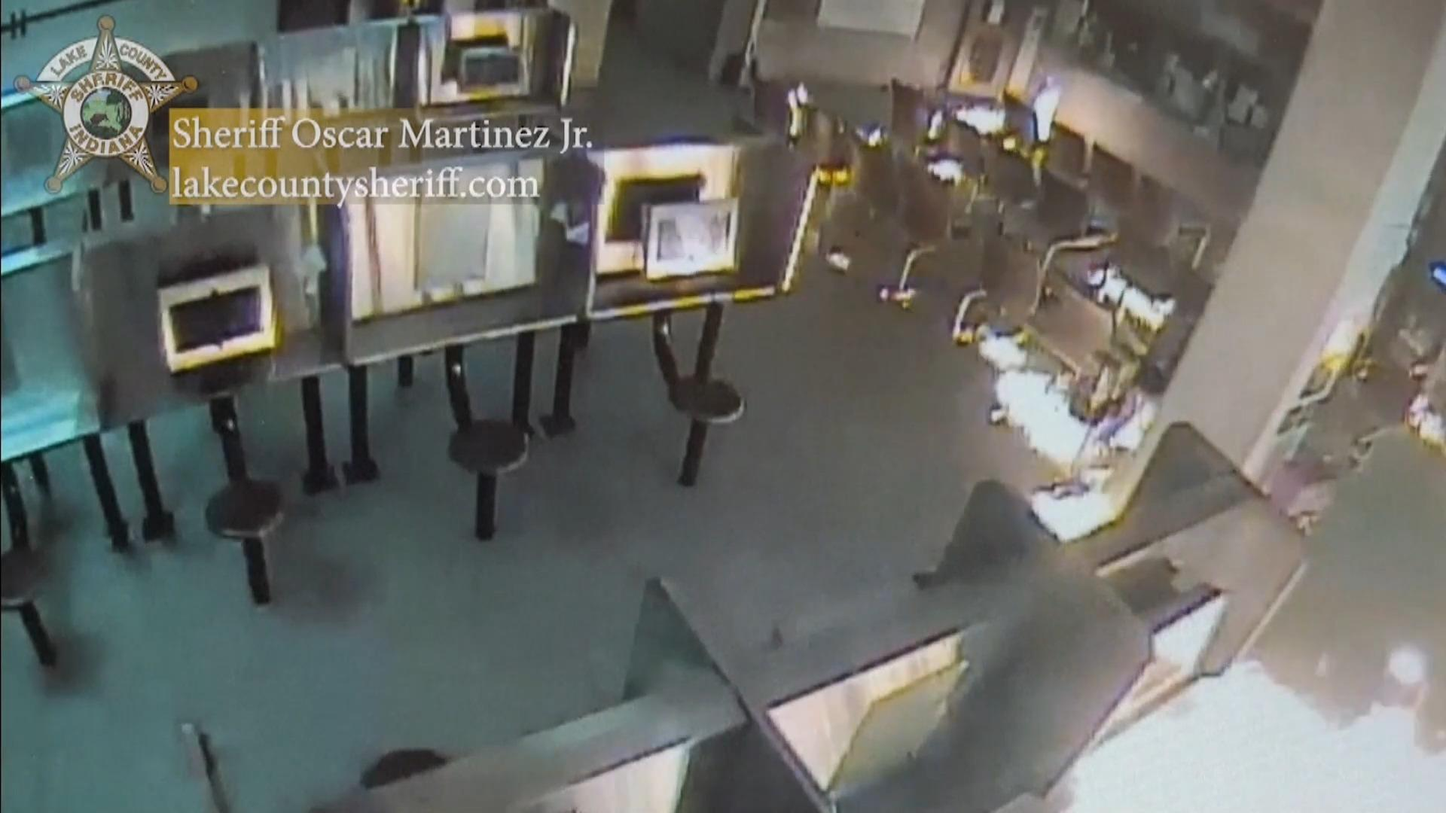fire: (1071, 648, 1446, 813), (978, 329, 1147, 541), (955, 77, 1061, 140)
